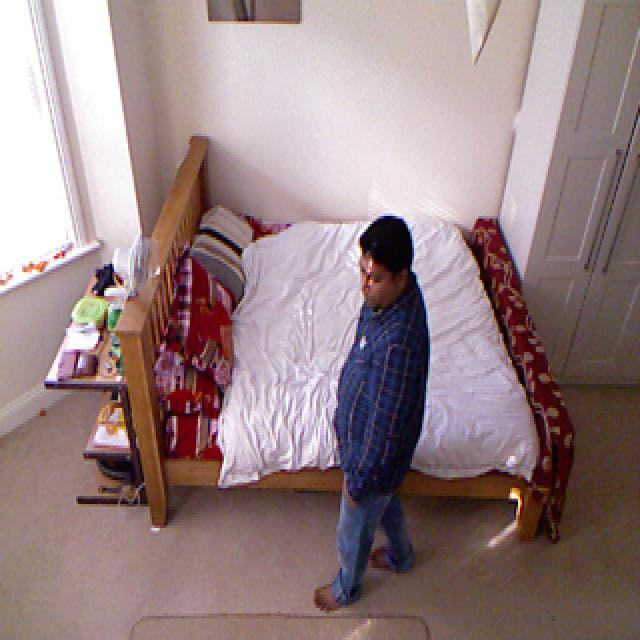standing: (322, 214, 428, 620)
